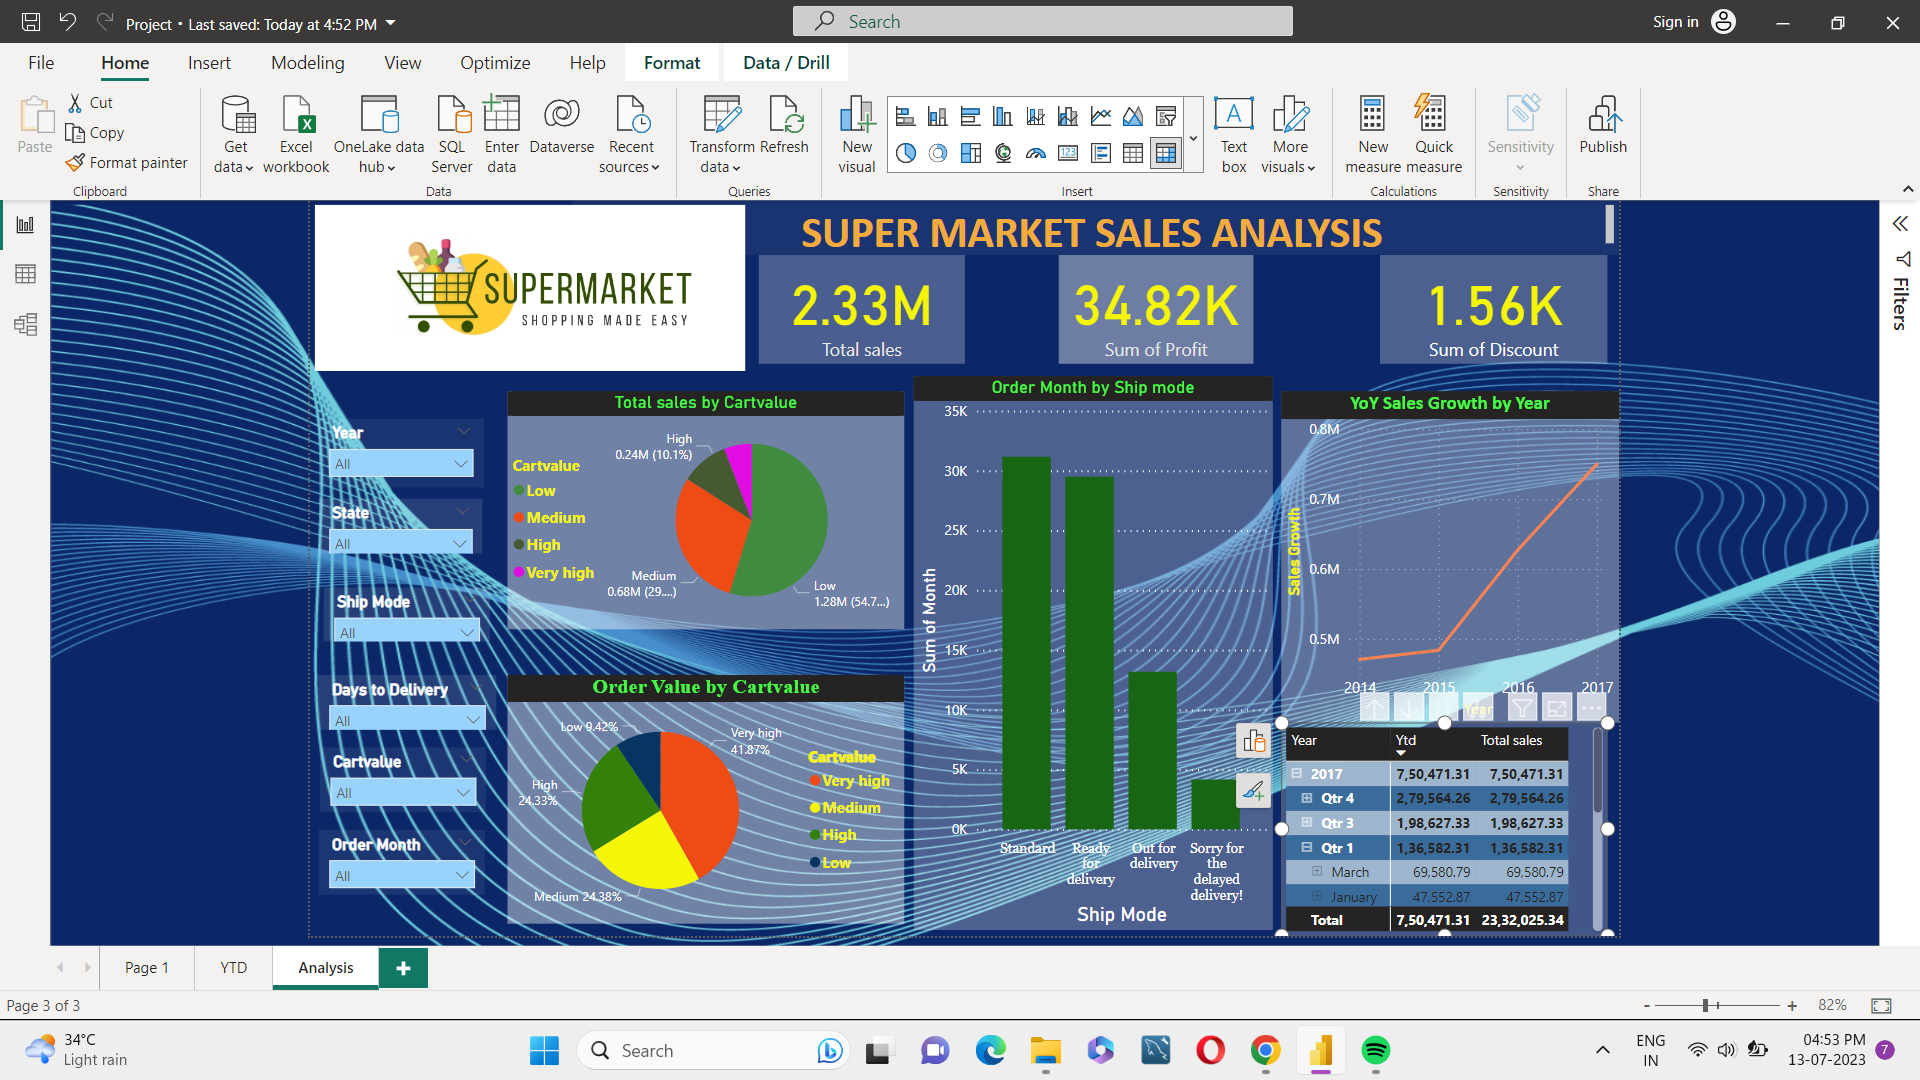

The dashboard page shown, as its layout file describes it:
{"tool":"powerbi","page":{"name":"Analysis","canvas":[1280,720],"ordinal":2},"visuals":[{"type":"card","fields":{"Values":["Orders.Total sales"]},"box":[438.8,53.8,201.7,106.3],"z":0},{"type":"card","fields":{"Values":["Sum(Orders.Profit)"]},"box":[732.2,53.8,190.7,106.3],"z":1000},{"type":"slicer","fields":{"Values":["Orders.State"]},"box":[8.6,292.2,160.1,53.8],"z":2000},{"type":"pivotTable","fields":{"Rows":["Orders.Order Date.Variation.Date Hierarchy.Year","Orders.Order Date.Variation.Date Hierarchy.Quarter","Orders.Order Date.Variation.Date Hierarchy.Month","Orders.Order Date.Variation.Date Hierarchy.Day"],"Values":["Orders.Ytd","Orders.Total sales"]},"box":[949.8,511,319,209],"z":3000},{"type":"slicer","fields":{"Values":["Orders.Days to Deliver"]},"box":[8.6,464.5,173.6,53.8],"z":4000},{"type":"slicer","fields":{"Values":["Orders.Cartvalue"]},"box":[9.8,535.4,162.6,63.6],"z":5000},{"type":"textbox","box":[256.6,0,1023.7,53.9],"z":6000},{"type":"slicer","fields":{"Values":["Table 1 (Orders).Ship Mode"]},"box":[13.4,378.9,162.6,52.6],"z":7000},{"type":"pieChart","title":"Order Value by Cartvalue","fields":{"Category":["Orders.Cartvalue"],"Y":["Sum(Orders.Order Value)"]},"box":[193.4,464.5,388.2,243.4],"z":8000},{"type":"pieChart","title":"Total sales by Cartvalue","fields":{"Y":["Orders.Total sales"],"Category":["Orders.Cartvalue"]},"box":[193.4,186.8,388.2,232.9],"z":9000},{"type":"columnChart","title":"Order Month by Ship mode","fields":{"Category":["Orders.Ship mode"],"Y":["Sum(Orders.Order Month)"]},"box":[590.4,172.4,350.8,541.5],"z":10000},{"type":"lineChart","title":"YoY Sales Growth by Year","fields":{"Category":["Orders.Order Date.Variation.Date Hierarchy.Year"],"Y":["Orders.YoY Sales Growth"]},"box":[949.8,187,330.1,323.9],"z":11000},{"type":"image","box":[0,0,430.3,172.4],"z":12000},{"type":"card","fields":{"Values":["Sum(Orders.Discount)"]},"box":[1046.1,53.9,222.4,106.6],"z":13000},{"type":"slicer","fields":{"Values":["Orders.Order Month"]},"box":[8.6,616.1,162.6,63.6],"z":14000},{"type":"slicer","fields":{"Values":["Orders.Year"]},"box":[8.6,213.9,161.4,67.2],"z":15000}]}

Visuals, with their boxes on the page's 1280x720 design canvas (x1, y1, x2, y2). These are canvas units, not pixel positions in the 1920x1080 screenshot, which may show the page scaled, cropped or inside an application window:
card - Orders.Total sales: (439, 54, 640, 160)
card - Sum(Orders.Profit): (732, 54, 923, 160)
slicer - Orders.State: (9, 292, 169, 346)
pivotTable - Orders.Order Date.Variation.Date Hierarchy.Year x Orders.Order Date.Variation.Date Hierarchy.Quarter: (950, 511, 1269, 720)
slicer - Orders.Days to Deliver: (9, 464, 182, 518)
slicer - Orders.Cartvalue: (10, 535, 172, 599)
textbox: (257, 0, 1280, 54)
slicer - Table 1 (Orders).Ship Mode: (13, 379, 176, 432)
"Order Value by Cartvalue" pieChart: (193, 464, 582, 708)
"Total sales by Cartvalue" pieChart: (193, 187, 582, 420)
"Order Month by Ship mode" columnChart: (590, 172, 941, 714)
"YoY Sales Growth by Year" lineChart: (950, 187, 1280, 511)
image: (0, 0, 430, 172)
card - Sum(Orders.Discount): (1046, 54, 1268, 160)
slicer - Orders.Order Month: (9, 616, 171, 680)
slicer - Orders.Year: (9, 214, 170, 281)
